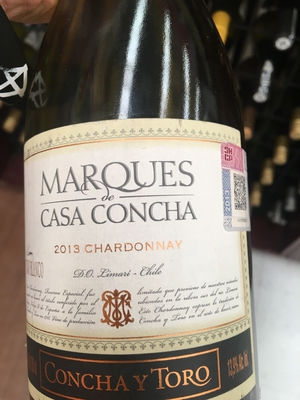marques de casa concha chardonnay: (16, 51, 266, 400)
